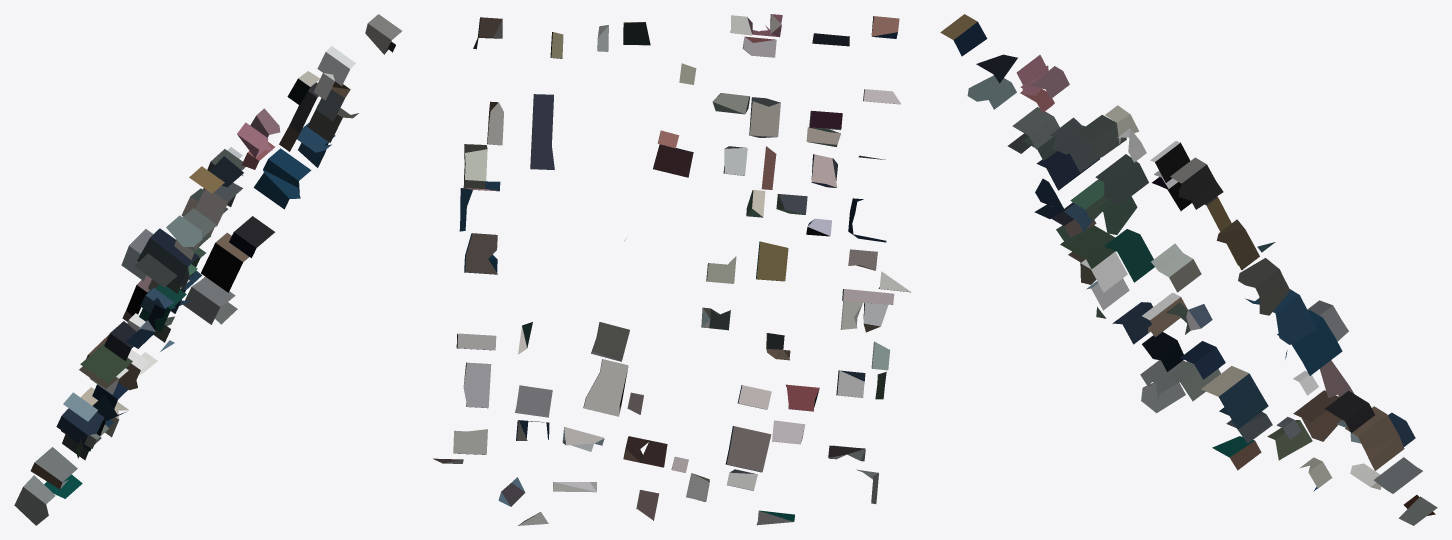
3 views of the same model, side by side, from view 1: azimuth 30°, elevation 25°; view 2: azimuth 150°, elevation 25°; view 3: azimuth 270°, elevation 25° (orthographic). The views are drawn at different scales.
Bounding box in the file's own units: 198 × 206 × 202.
